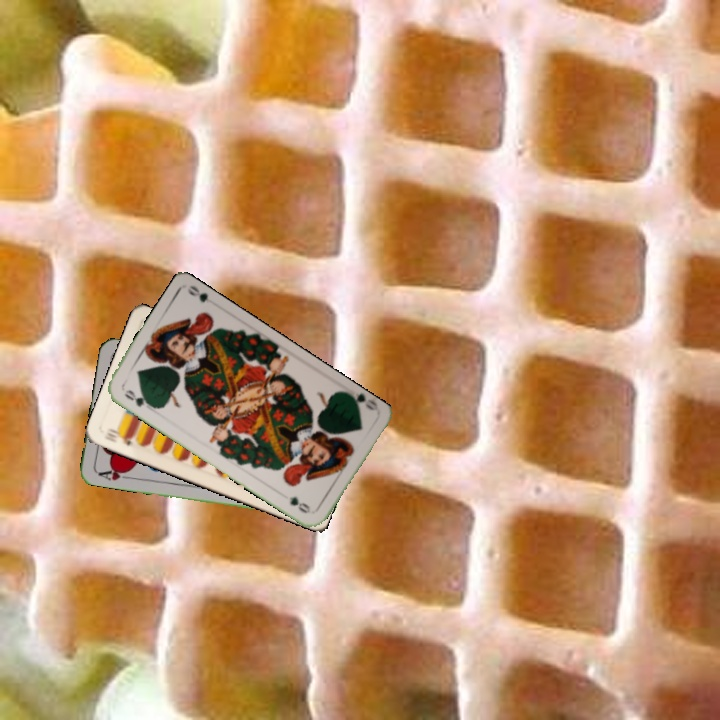E10: (103, 424, 135, 448)
GO: (342, 389, 379, 413), (120, 385, 155, 410)
HA: (94, 464, 134, 483)
